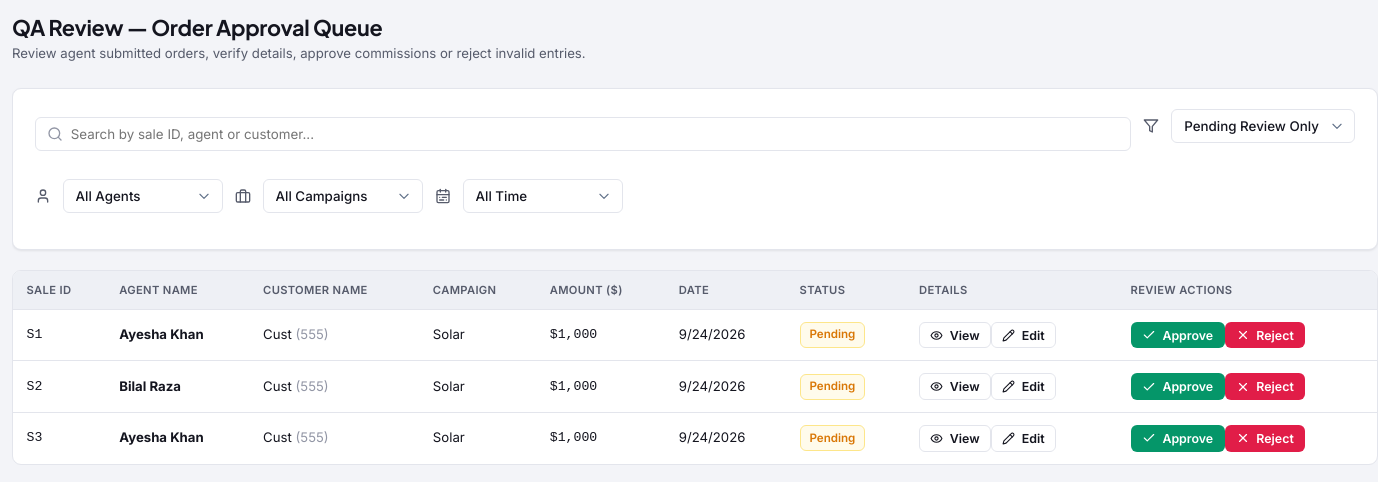
Scenario: QASalesApproval campaign filter › combines the campaign filter with the agent and status filters
The width and height of the screenshot is (1378, 482).
Select "Solar" in the dropdown named "filter by campaign" at {"x": 343, "y": 196}, box [263,179,423,213]
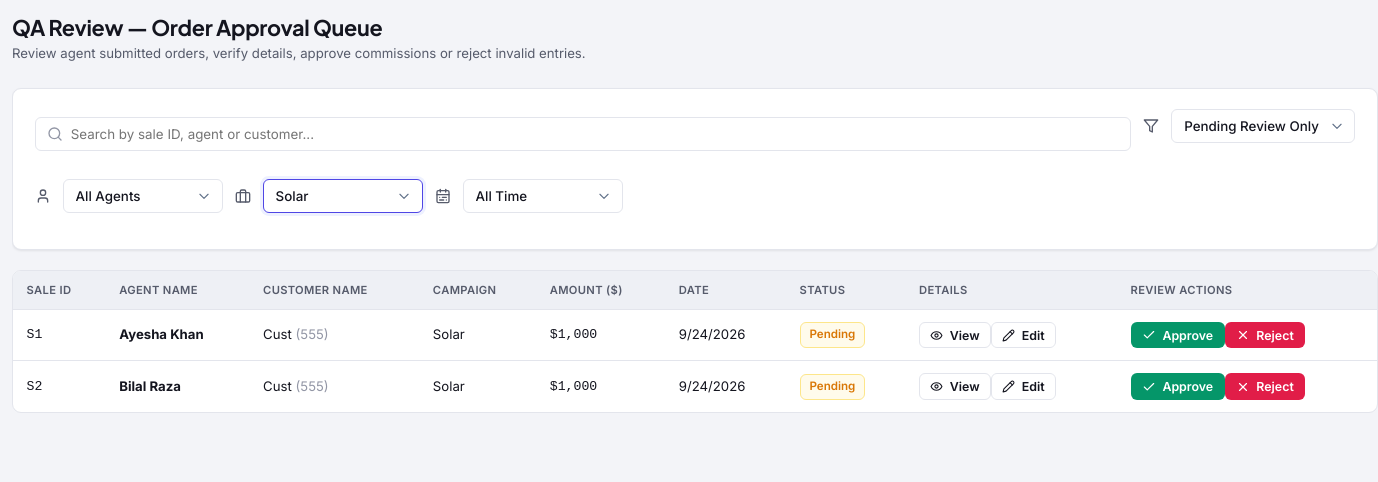
Select "Ayesha Khan" in the dropdown named "filter by agent" at {"x": 143, "y": 196}, box [63,179,223,213]
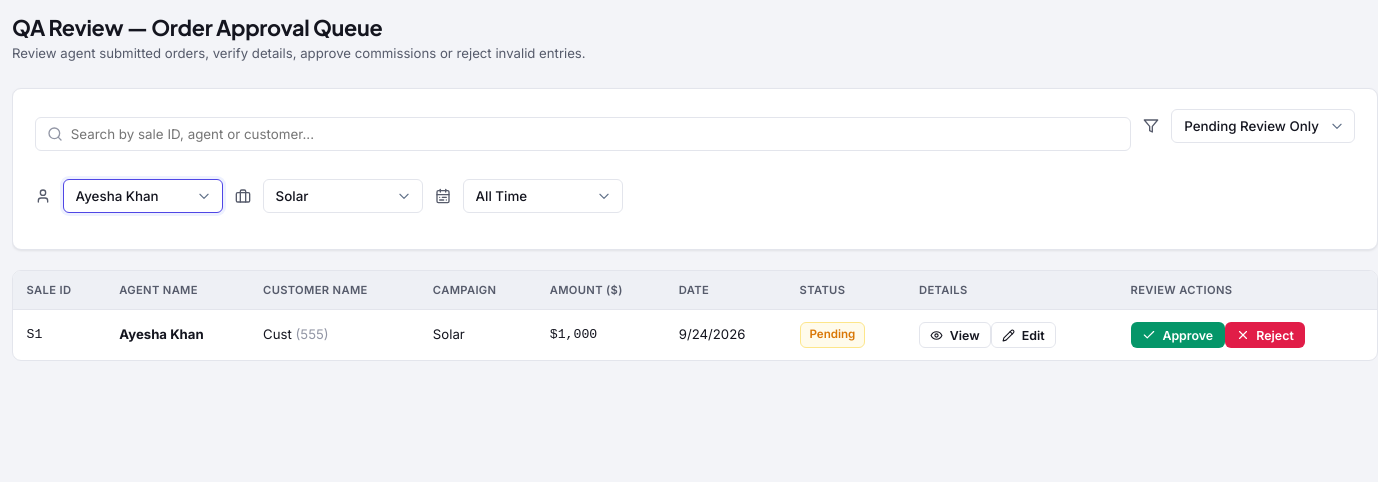
Expected: the text "S1" is shown, [13,309,106,360]
Result: the text "S2" is gone
